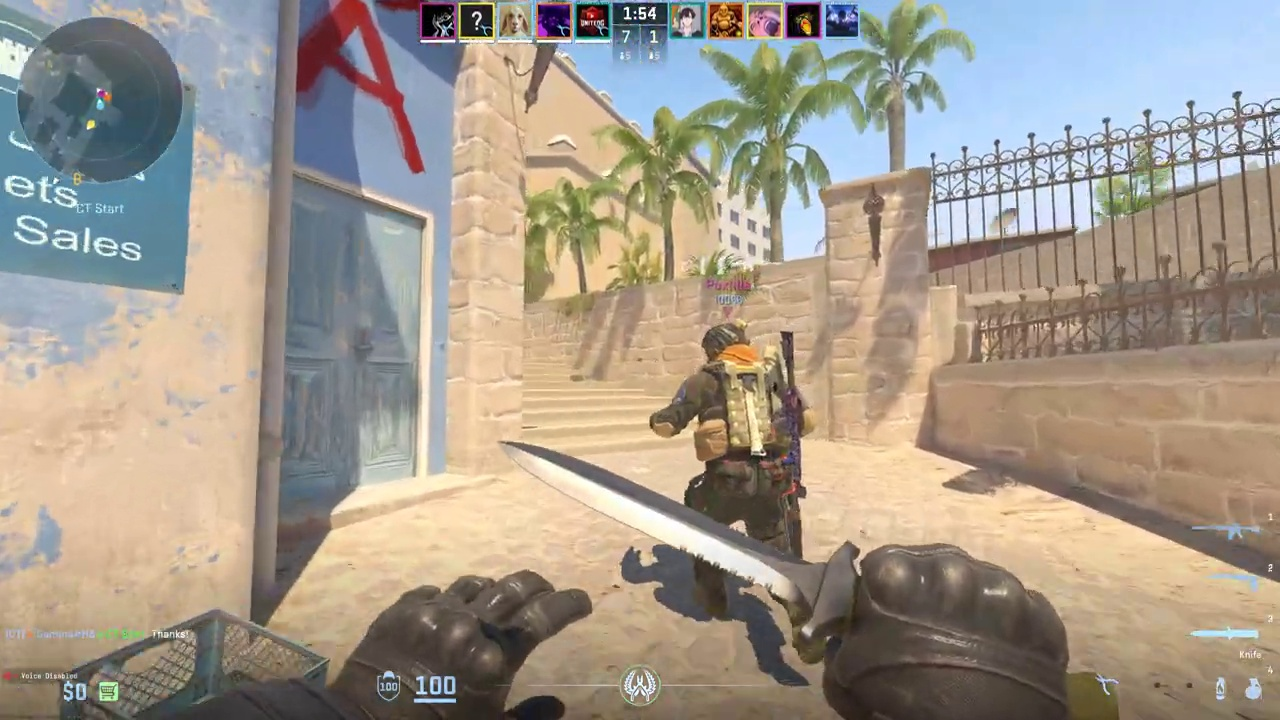Terrorist: (673, 323, 808, 652)
